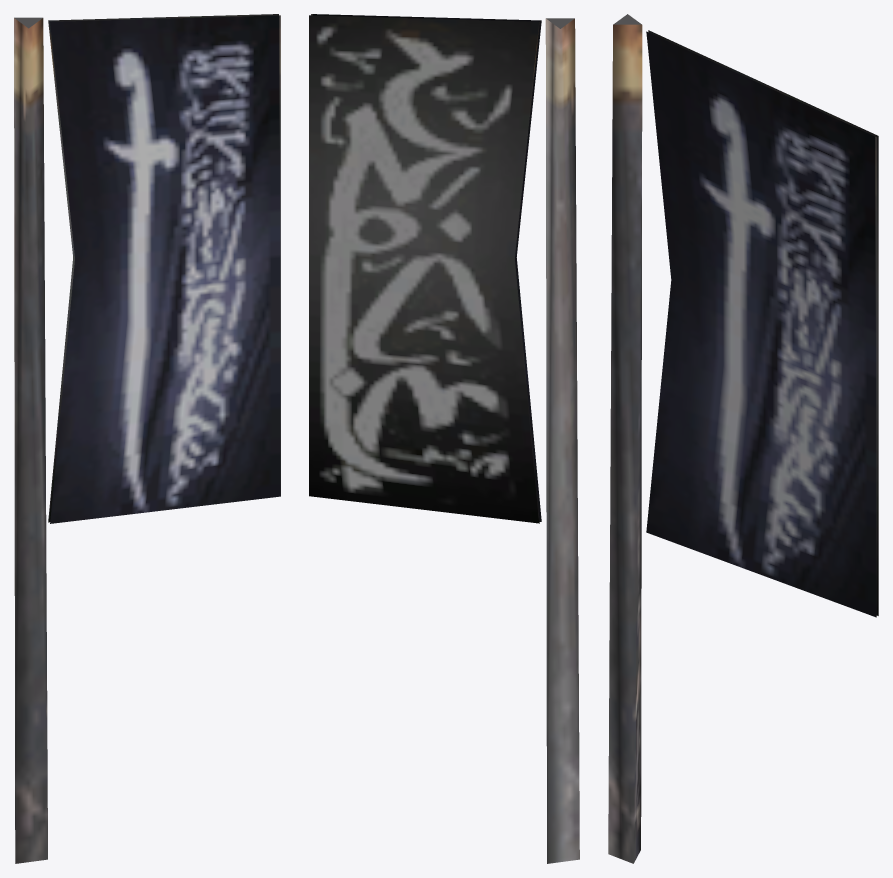
The model's file is Environment - Prop - Banners - PMBanner.glb.
3 views of the same model, side by side, from view 1: azimuth 30°, elevation 25°; view 2: azimuth 150°, elevation 25°; view 3: azimuth 330°, elevation 25° (orthographic).
Visible parts, largest first — view 1: PMBANNER; view 2: PMBANNER; view 3: PMBANNER.
Part boxes in pixels (left/top/right/bottom): PMBANNER: left=14, top=14, right=280, bottom=863; PMBANNER: left=309, top=14, right=579, bottom=863; PMBANNER: left=608, top=14, right=878, bottom=863.
Bounding box in the file's own units: 6.72 × 20.08 × 0.7425.
Materials: 1 (1 with a texture image).
